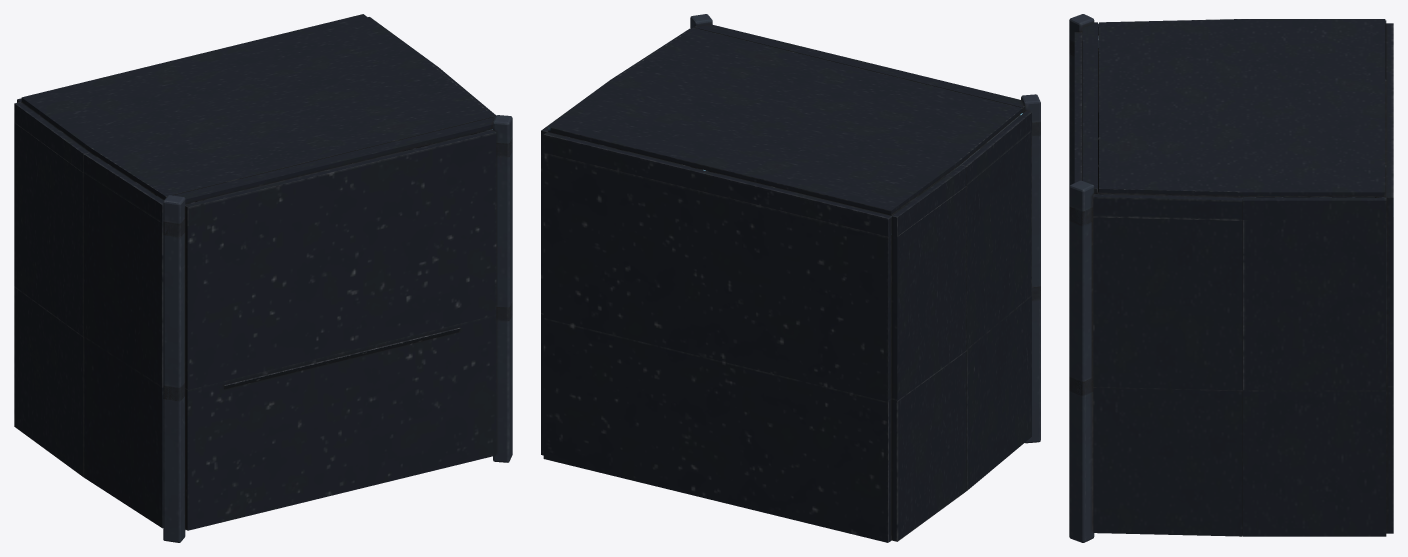
Rendered from cockpit_cinema.gltf.
3 views of the same model, side by side, from view 1: azimuth 30°, elevation 25°; view 2: azimuth 150°, elevation 25°; view 3: azimuth 270°, elevation 25° (orthographic). The views are drawn at different scales.
Parts seen in each view (by area): view 1: pod_cabin, INNER_door_1_cabin, CONSOLE_front_front; view 2: pod_cabin, INNER_door_1_cabin; view 3: pod_cabin, INNER_door_1_cabin.
Part boxes in pixels (x1,y1,x2,y2): pod_cabin: [14, 14, 512, 542]; INNER_door_1_cabin: [173, 117, 496, 530]; CONSOLE_front_front: [224, 327, 460, 389]; pod_cabin: [541, 14, 1040, 542]; INNER_door_1_cabin: [694, 24, 1024, 173]; pod_cabin: [1069, 14, 1393, 542]; INNER_door_1_cabin: [1074, 22, 1098, 193].
Bounding box in the file's own units: 2.38 × 2.18 × 1.81.
Materials: 9 (8 with a texture image).
